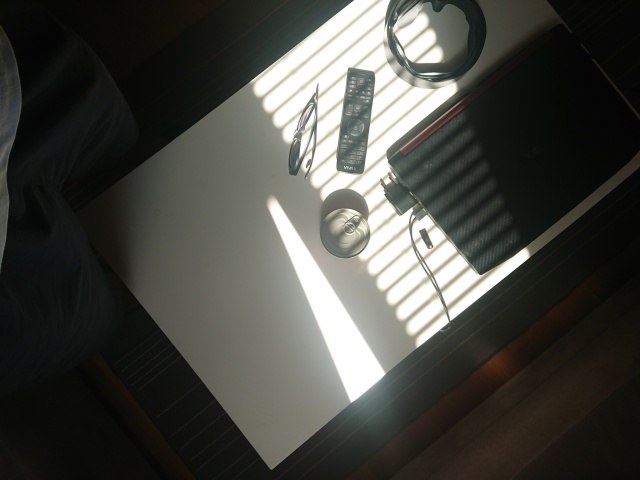Giana Tuna Salad Mexico 185g: (318, 206, 373, 261)
